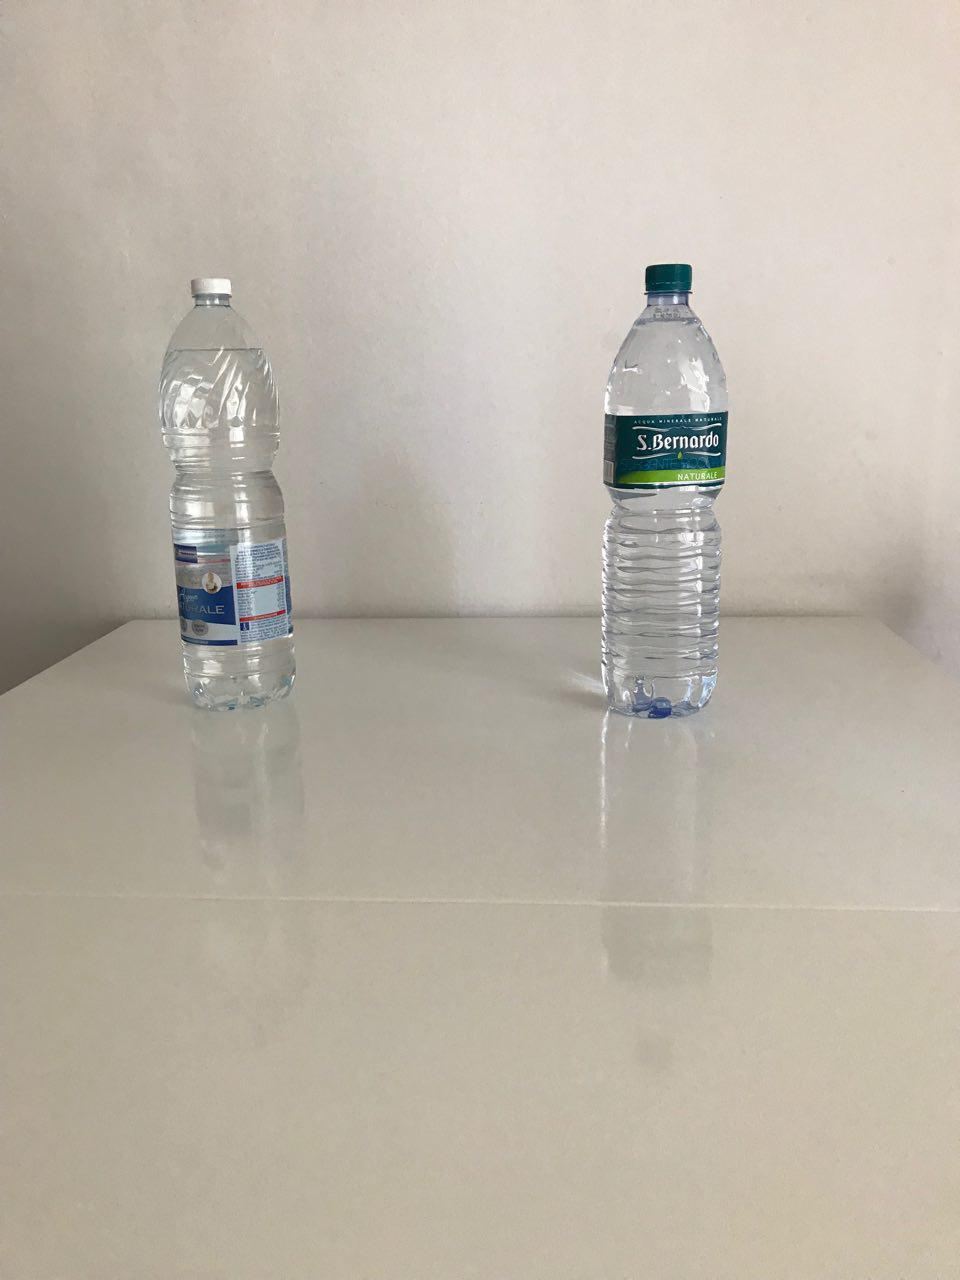san_bernardo: (601, 263, 730, 719)
